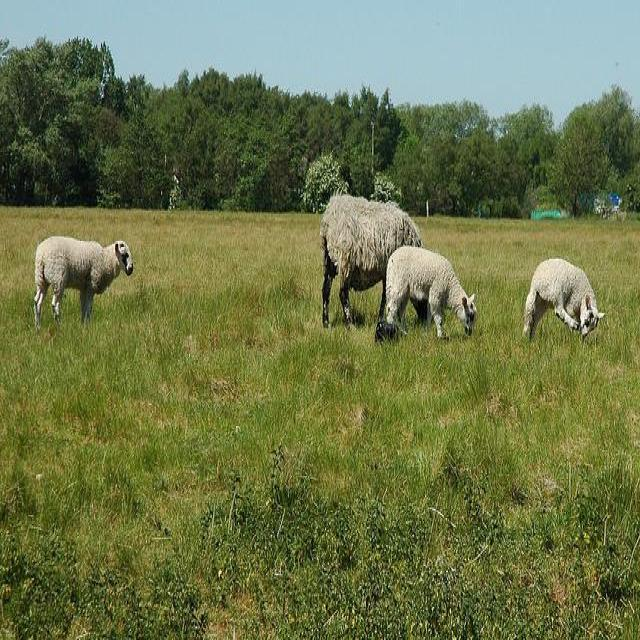Sheep: (320, 196, 424, 333), (32, 233, 135, 333), (386, 247, 477, 340), (522, 259, 607, 342)
